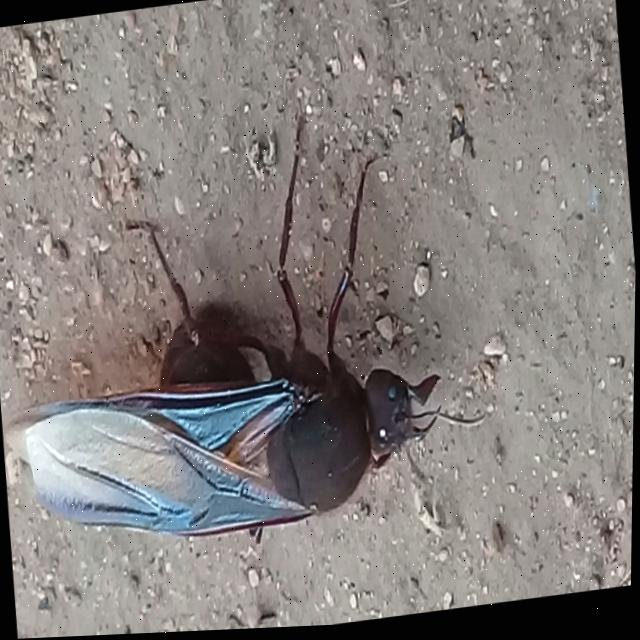Alive-Female-Alate: (0, 92, 500, 578)
